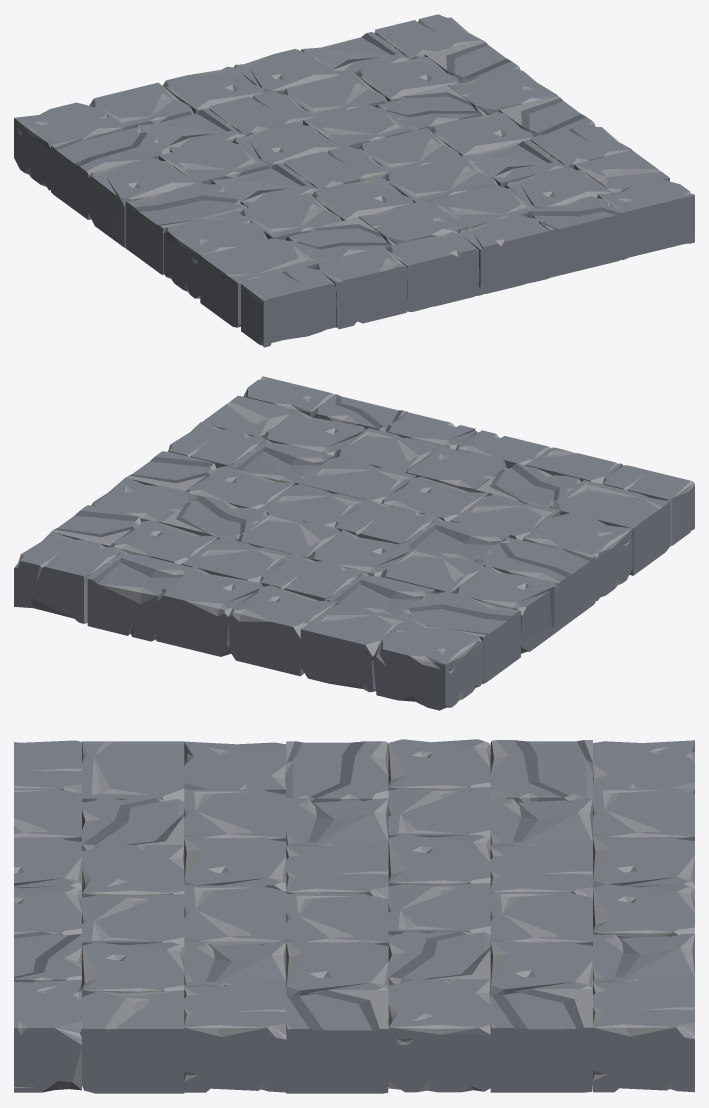
The model's file is mesh_stone_floor.fbx.
3 renders of one model, top to bottom at view 1: azimuth 30°, elevation 25°; view 2: azimuth 150°, elevation 25°; view 3: azimuth 270°, elevation 25°, orthographic. The views are drawn at different scales.
Visible parts, largest first — view 1: mesh_stone_floor; view 2: mesh_stone_floor; view 3: mesh_stone_floor.
Boxes of the visible parts, bbox=[...] form: mesh_stone_floor: bbox=[14, 14, 694, 347]; mesh_stone_floor: bbox=[14, 376, 694, 710]; mesh_stone_floor: bbox=[14, 739, 694, 1093].
Bounding box in the file's own units: 2.01 × 0.2177 × 2.
